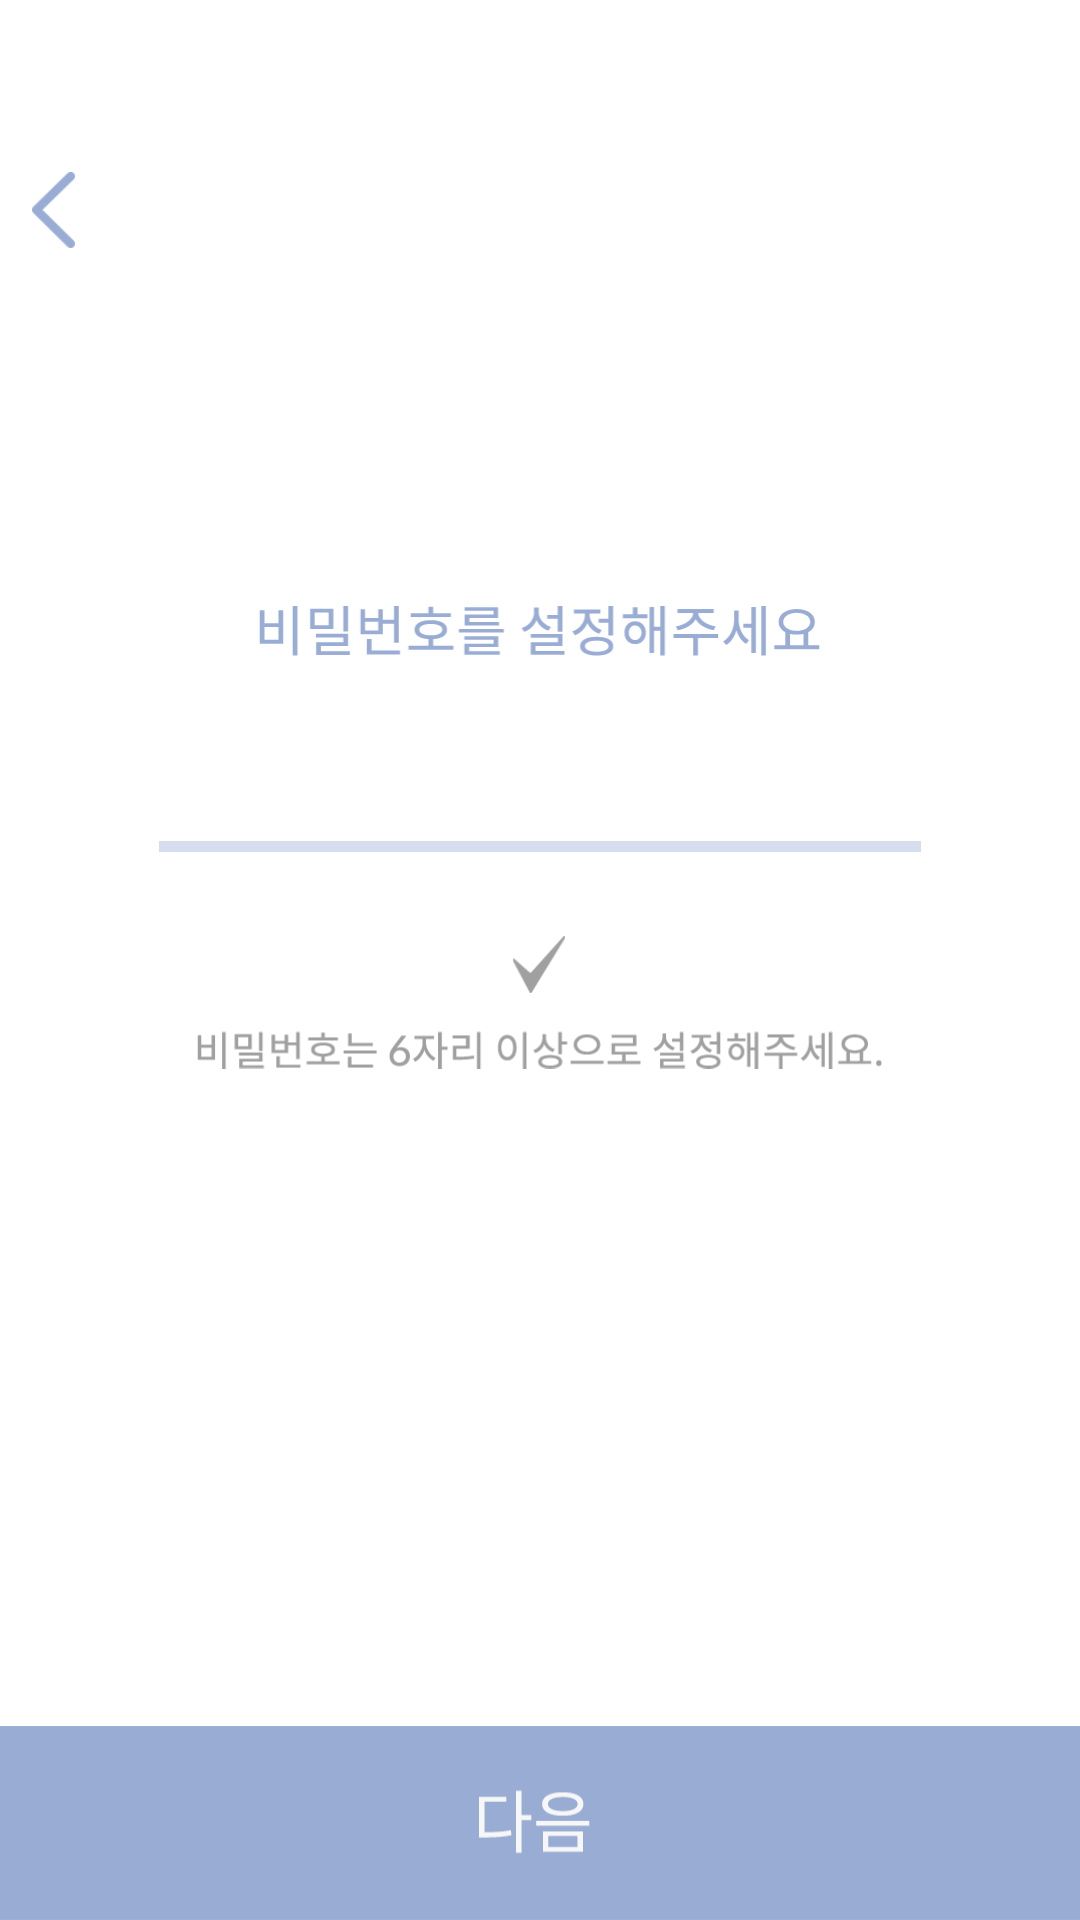

Named icons in this screenshot (1080 x 1920) and their centers, (x=x, y=y):
back: (x=53, y=210)
check: (x=539, y=964)
